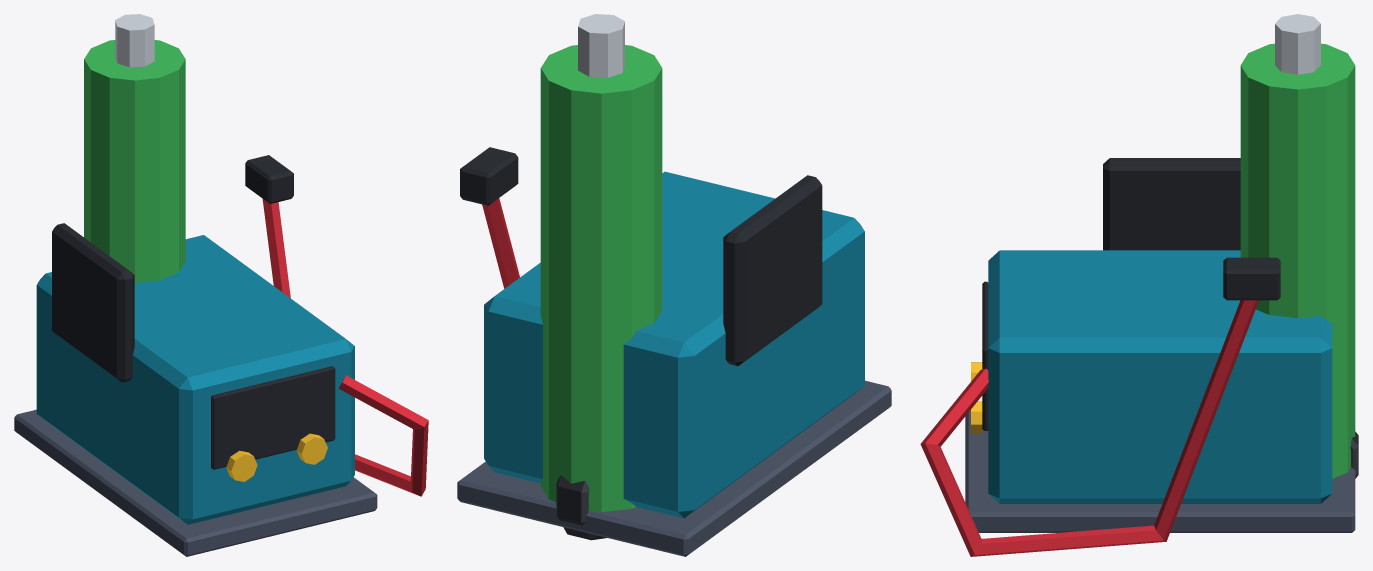
File: WeldingCart.fbx
3 views of the same model, side by side, from view 1: azimuth 30°, elevation 25°; view 2: azimuth 150°, elevation 25°; view 3: azimuth 270°, elevation 25° (orthographic). The views are drawn at different scales.
Visible parts, largest first — view 1: WeldingCart; view 2: WeldingCart; view 3: WeldingCart.
Boxes of the visible parts, x1=… form: WeldingCart: x1=14, y1=14, x2=428, y2=556; WeldingCart: x1=457, y1=14, x2=891, y2=556; WeldingCart: x1=920, y1=14, x2=1358, y2=556.
Bounding box in the file's own units: 2.83 × 4.6 × 3.82.
Materials: 1 (1 with a texture image).
